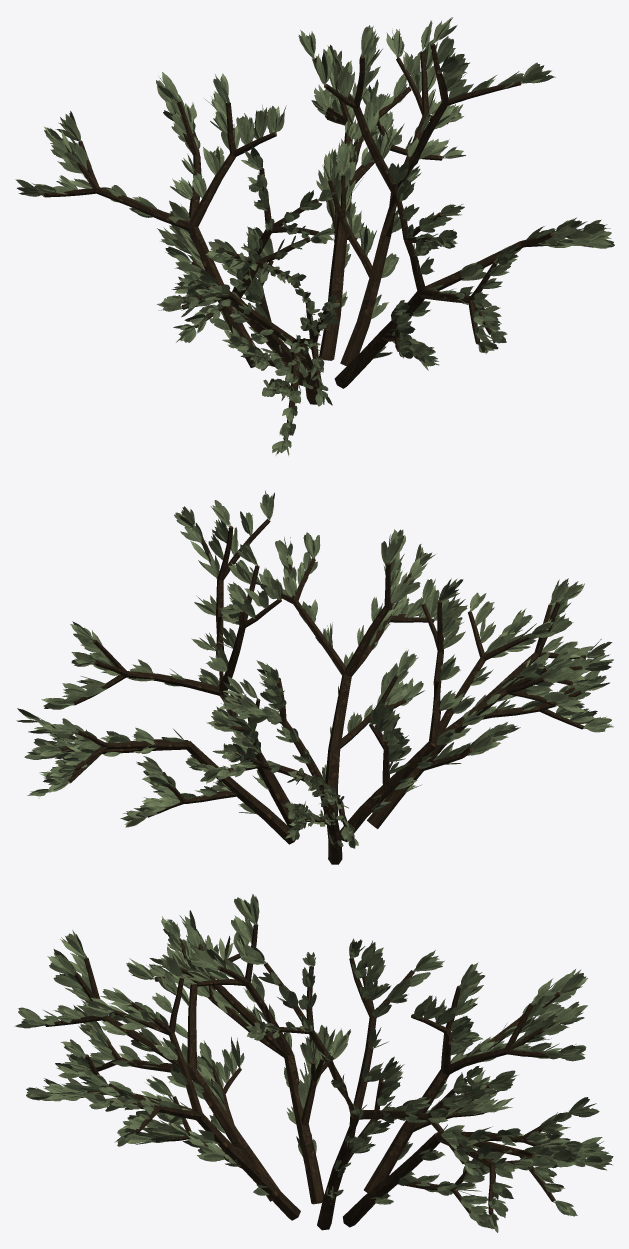
File: heather_dwarf_v02.fbx
3 renders of one model, top to bottom at view 1: azimuth 30°, elevation 25°; view 2: azimuth 150°, elevation 25°; view 3: azimuth 270°, elevation 25°, orthographic. The views are drawn at different scales.
Visible parts, largest first — view 1: heather_dwarf_v02; view 2: heather_dwarf_v02; view 3: heather_dwarf_v02.
Part boxes in pixels (box(x1,y1,x2,y2)): heather_dwarf_v02: box(15, 17, 614, 455); heather_dwarf_v02: box(16, 490, 613, 864); heather_dwarf_v02: box(14, 894, 613, 1232).
Bounding box in the file's own units: 63.1 × 42.65 × 71.52.
Materials: 2 (2 with a texture image).
